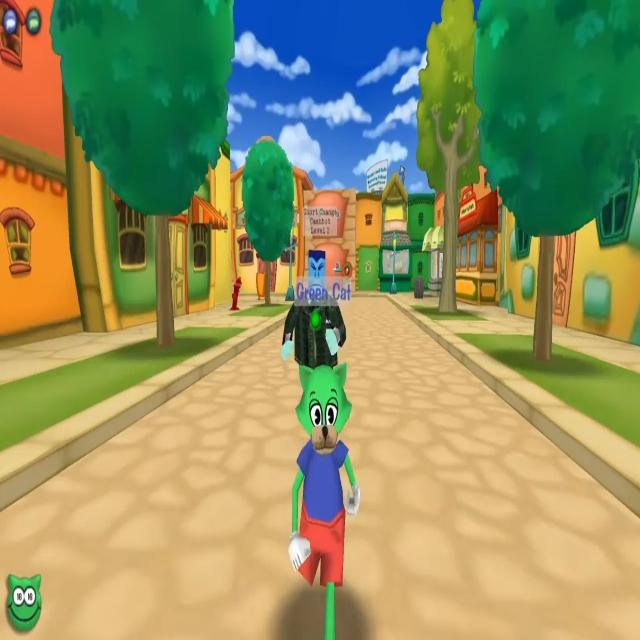shortchange: (278, 206, 346, 402)
